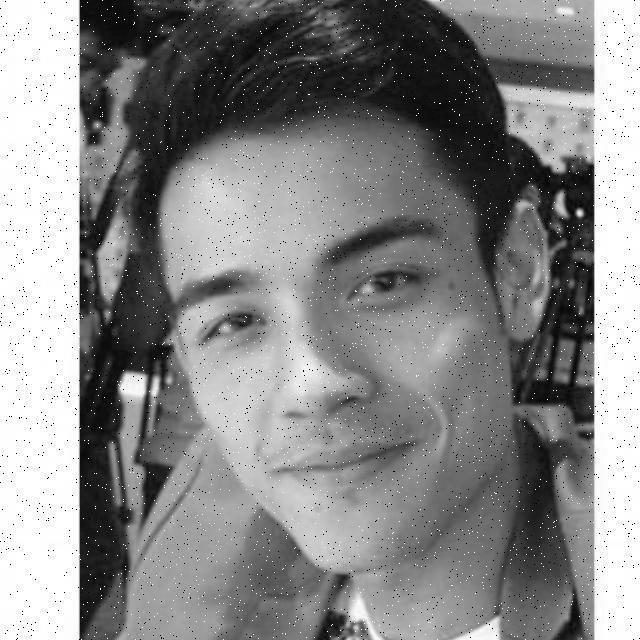real: (158, 152, 508, 553)
